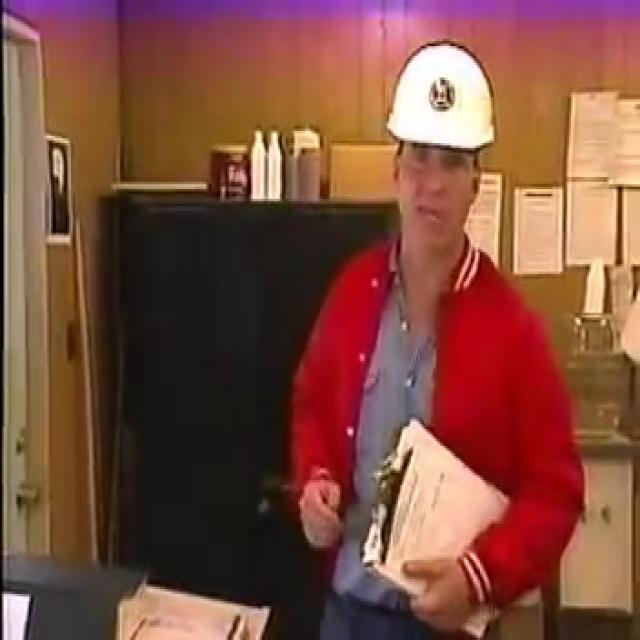Reflective-Jacket: (251, 242, 602, 630)
Safety-Helmet: (376, 34, 511, 167)
